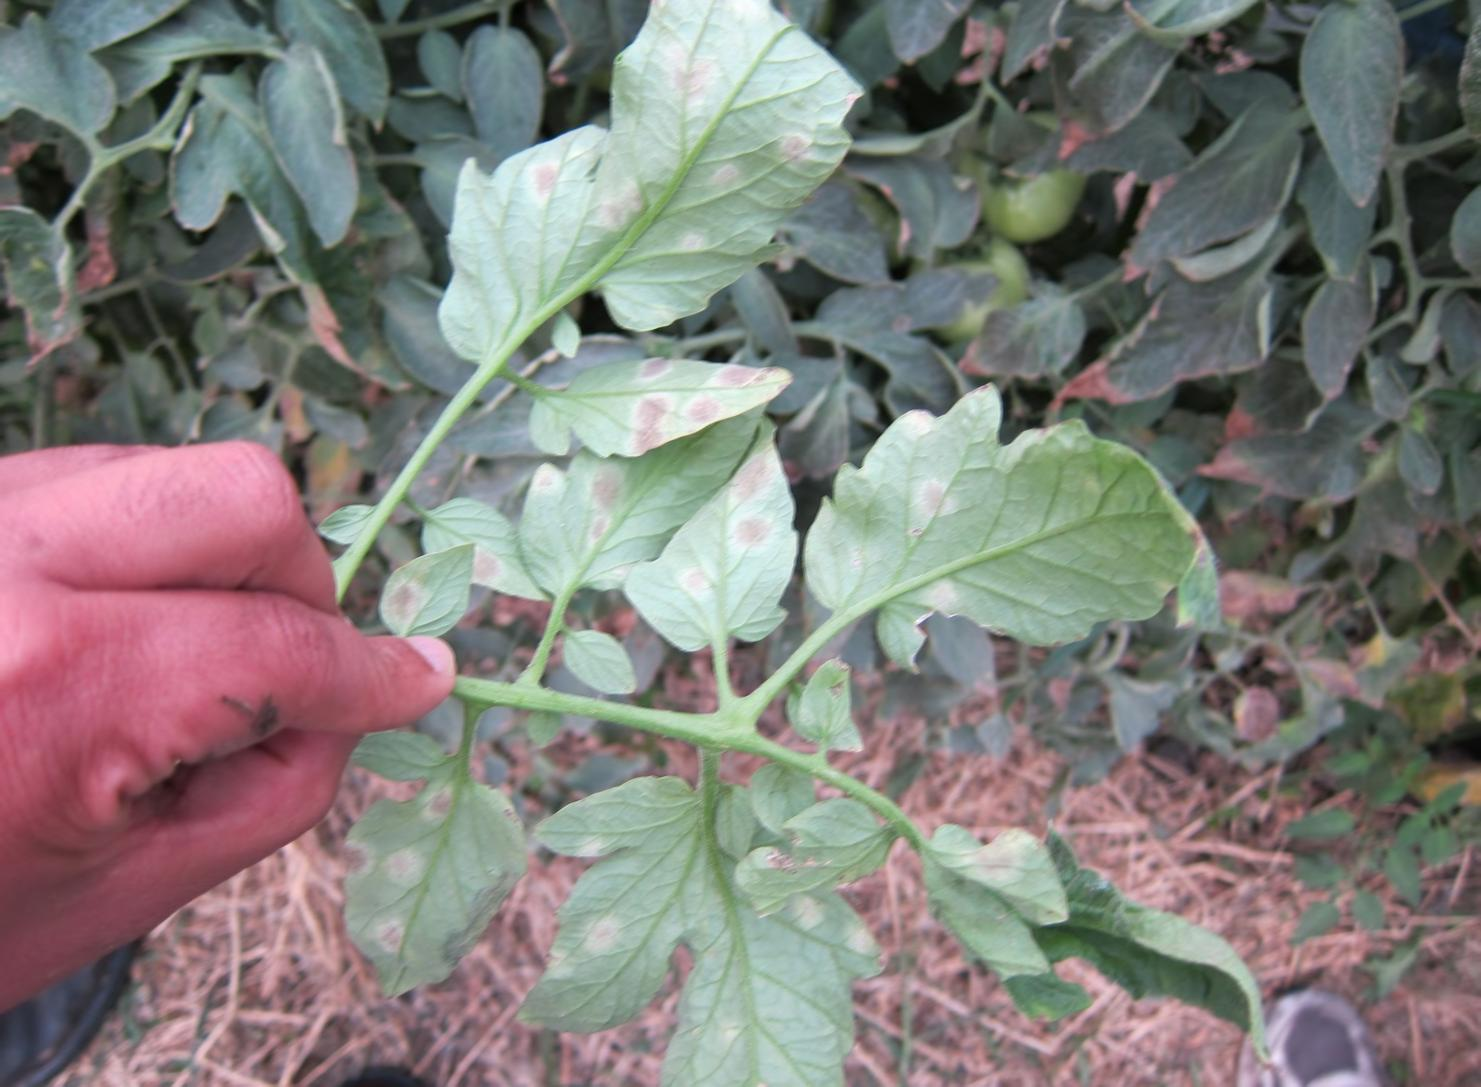Tomato mold leaf: (450, 0, 868, 371), (802, 382, 1280, 659), (520, 781, 872, 1087), (922, 814, 1307, 1063), (514, 390, 769, 608), (338, 731, 538, 1004), (609, 410, 811, 660), (503, 326, 806, 453), (742, 789, 902, 923), (373, 518, 497, 639)
